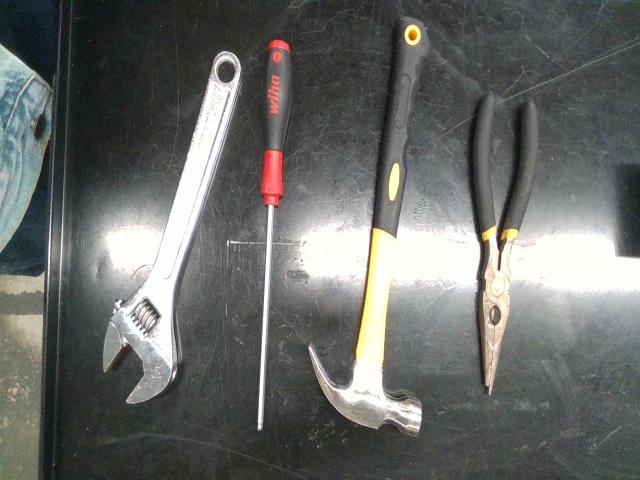Adjustable spanner: (102, 52, 241, 403)
Hammer: (309, 17, 429, 434)
Needle-nose pliers: (472, 93, 538, 394)
Screwdriver: (258, 40, 292, 429)
